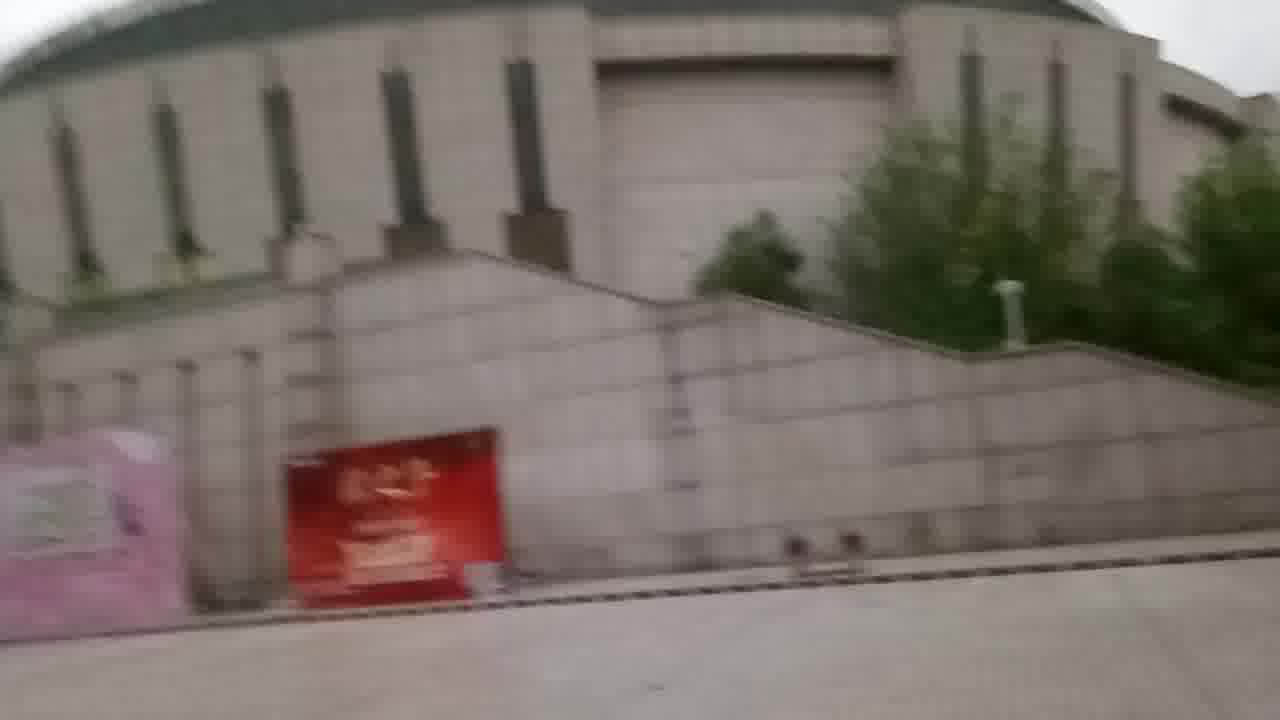zhongtiww: (16, 4, 1280, 596)
